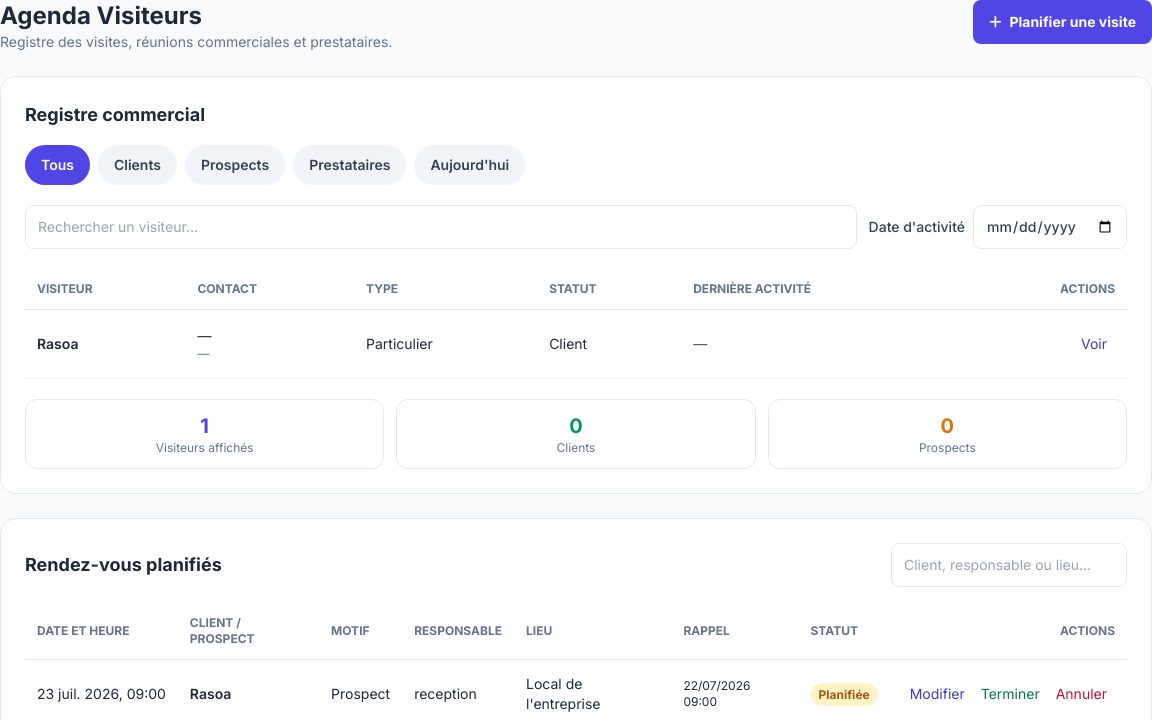
Test: AgendaVisitorsPage › renders persisted visits and completes a scheduled visit
Expected: the text "Rasoa" in the row of "Particulier" is shown, [37,335,78,352]
What coordinates should you click on to do the following:
click the button "Terminer"
I would click on:
 (1010, 694)
Its box is [973,672,1048,716].
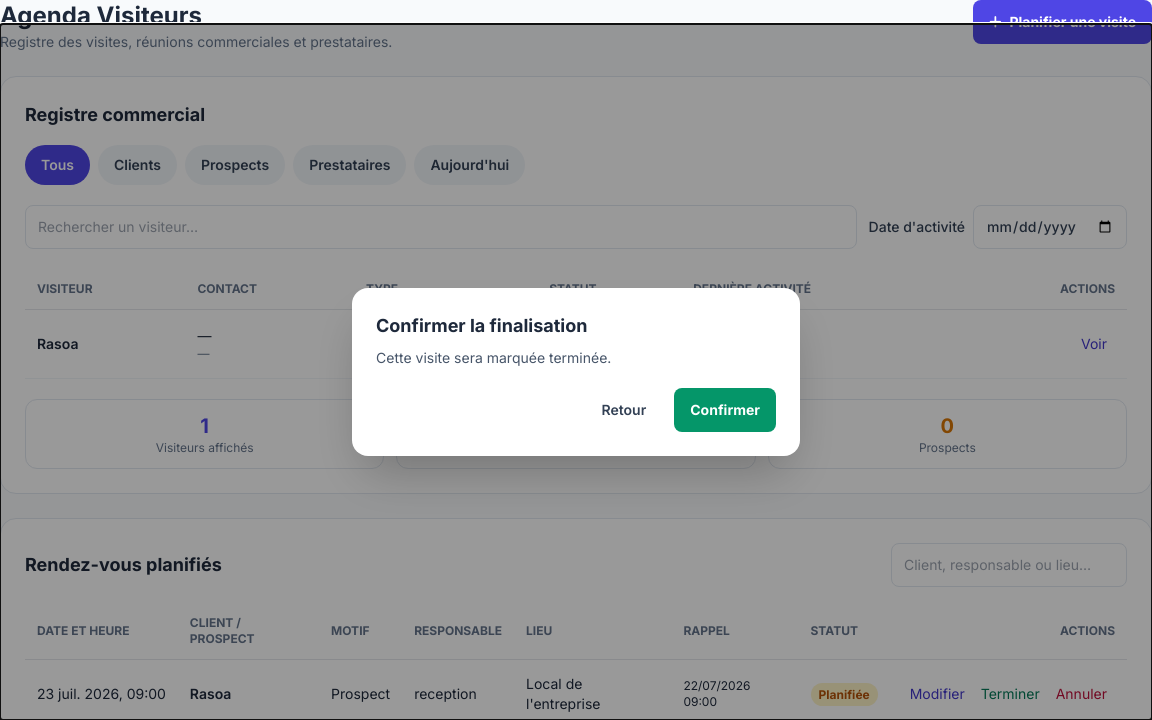
Result: the dialog shows "Confirmer la finalisation" at [376,315,587,336]
What coordinates should you click on to do the following:
click the button "Confirmer"
I would click on:
 (725, 410)
Its box is [674,388,776,432].
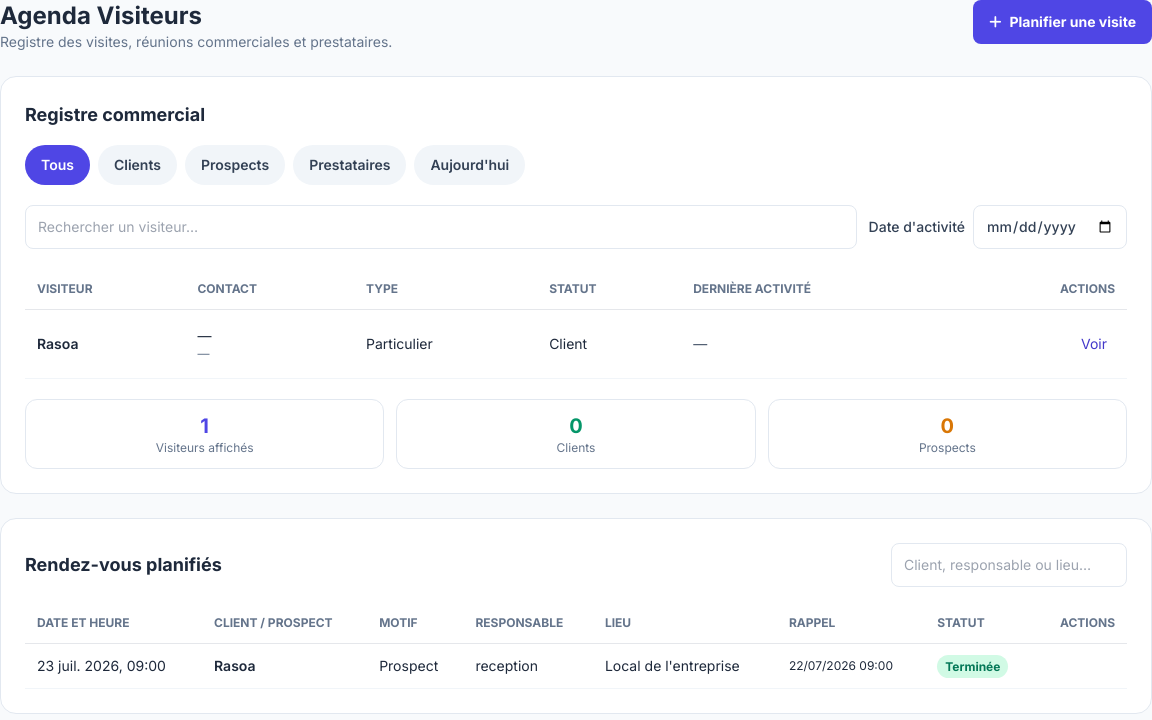
Result: the text "Terminée" is shown at [937,655,1008,678]
